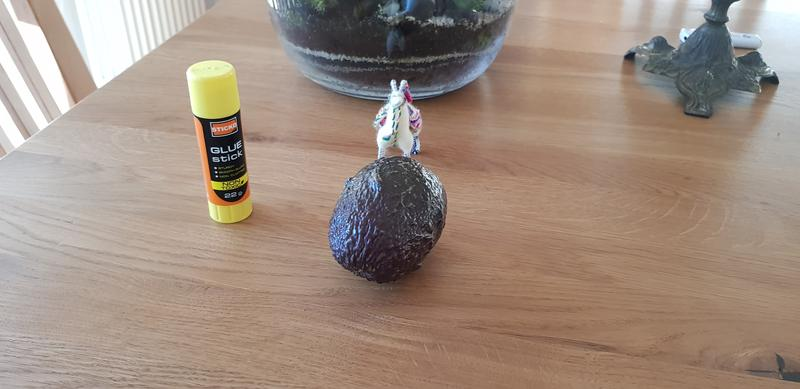Avocado: (323, 155, 456, 291)
Glue-Stick: (182, 58, 261, 228)
Horse-Toy: (371, 69, 433, 163)
